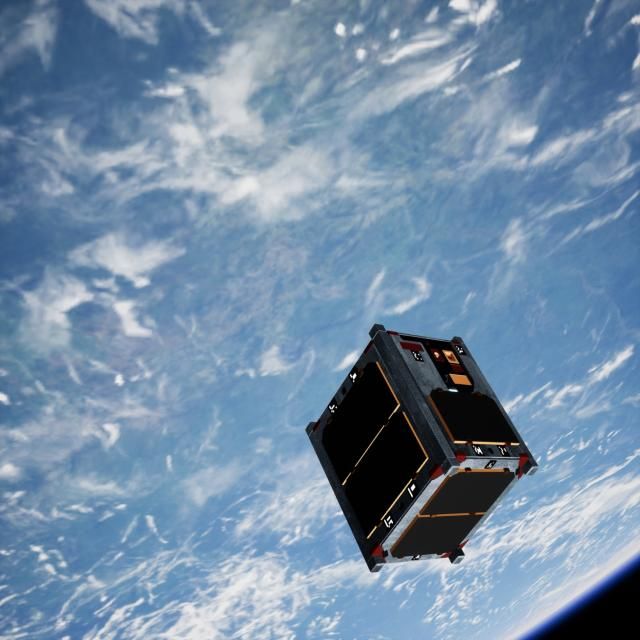satellite: (303, 317, 541, 572)
